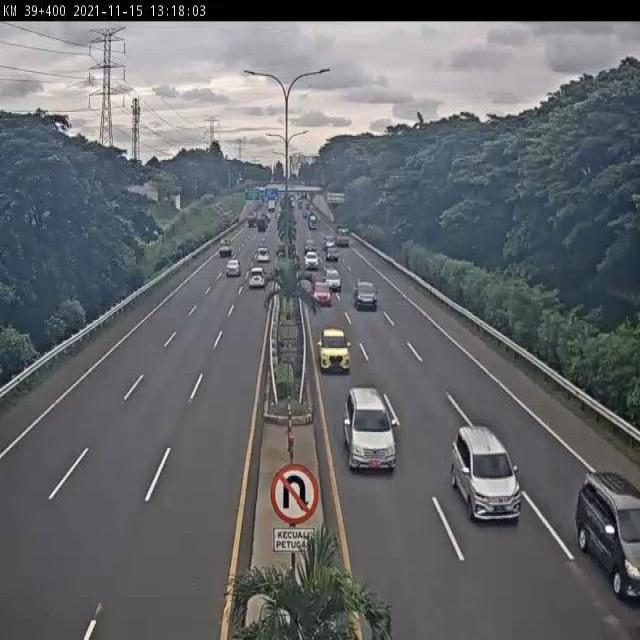car: (449, 424, 526, 524), (343, 384, 398, 473), (316, 327, 354, 377), (353, 277, 377, 311), (311, 280, 332, 307), (246, 266, 266, 290), (323, 270, 343, 294), (224, 258, 242, 278)
